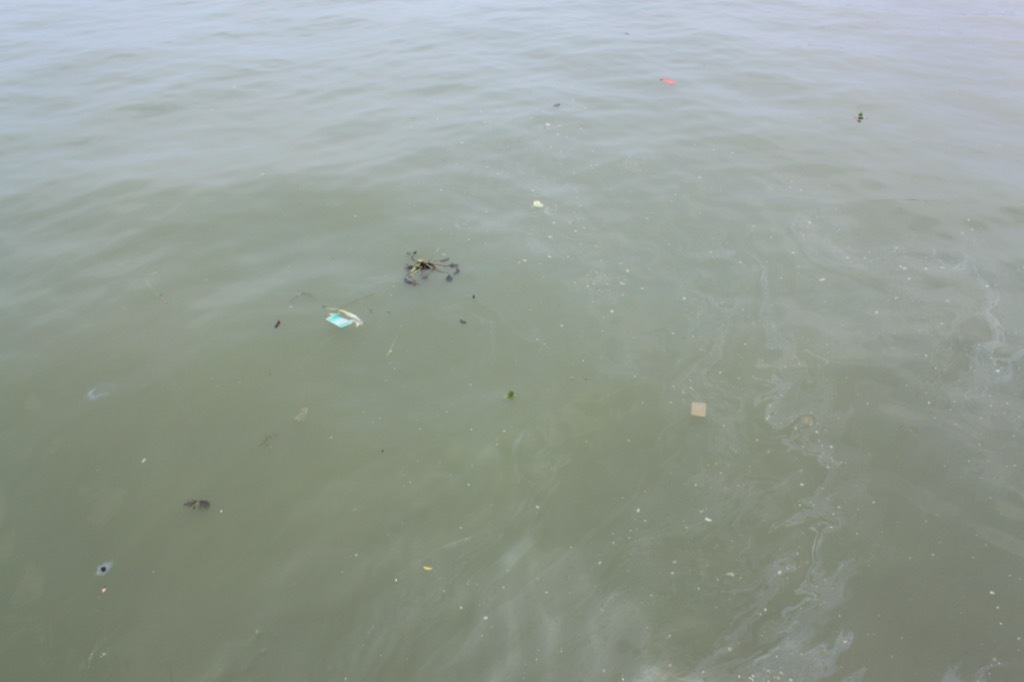organic: (389, 239, 463, 291), (278, 280, 330, 312), (253, 416, 285, 458), (176, 489, 213, 523), (497, 382, 525, 405), (850, 105, 870, 128), (416, 559, 438, 578), (545, 94, 566, 112), (273, 316, 287, 337), (454, 313, 471, 329), (618, 26, 636, 41), (376, 443, 390, 457), (468, 288, 478, 305)
plastic: (679, 396, 719, 429), (321, 305, 362, 336), (651, 72, 693, 101), (522, 191, 558, 220), (86, 553, 119, 584)
